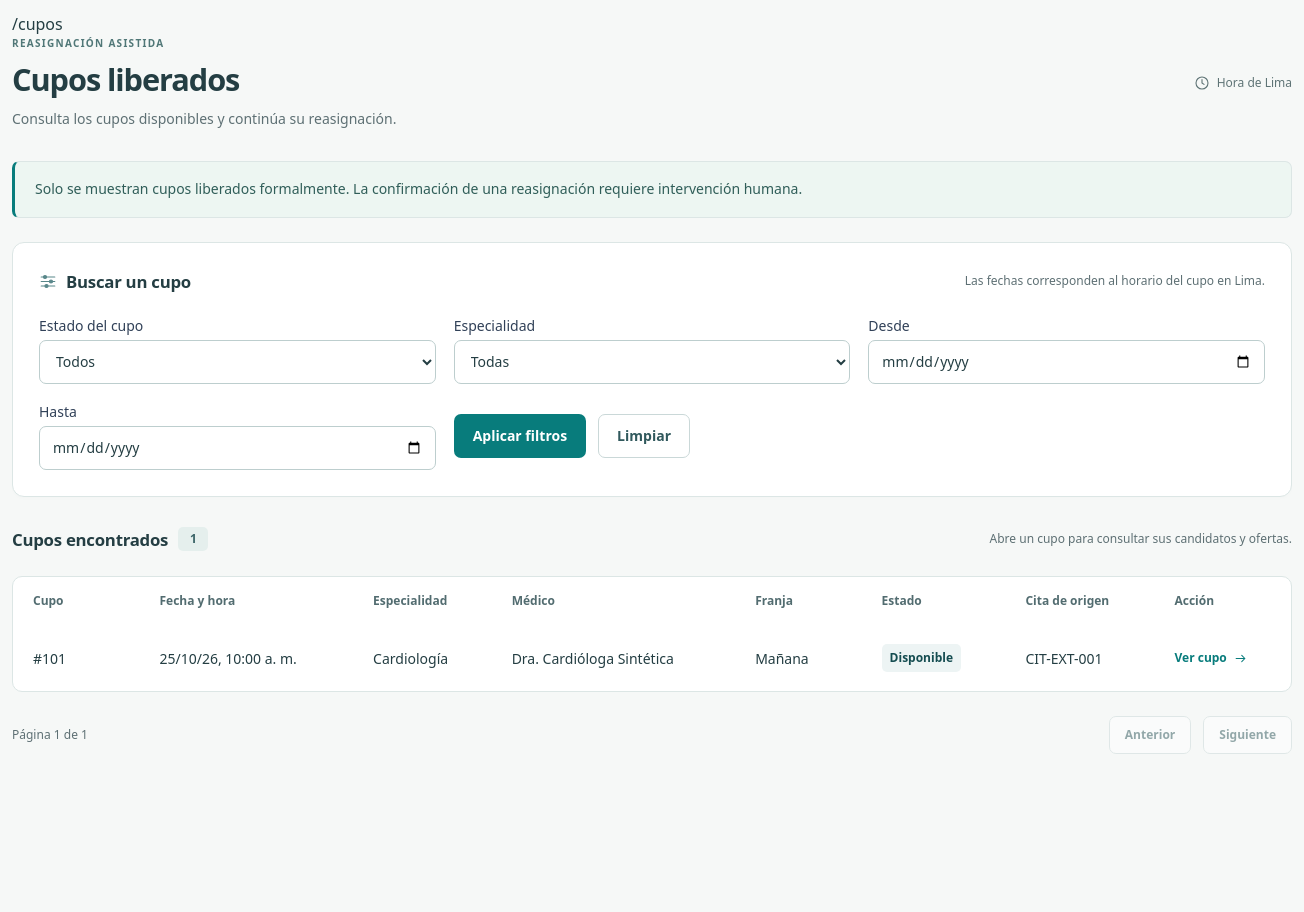
Test: Filtros y paginación de cupos (RF-073) › aplica filtros de estado, especialidad y rango de fechas a la URL y a la consulta
Expected: the text "#101" is shown, [13, 625, 140, 691]
Select "Disponible" in the dropdown labelled "Estado del cupo" at (237,362), box [39, 340, 436, 384]
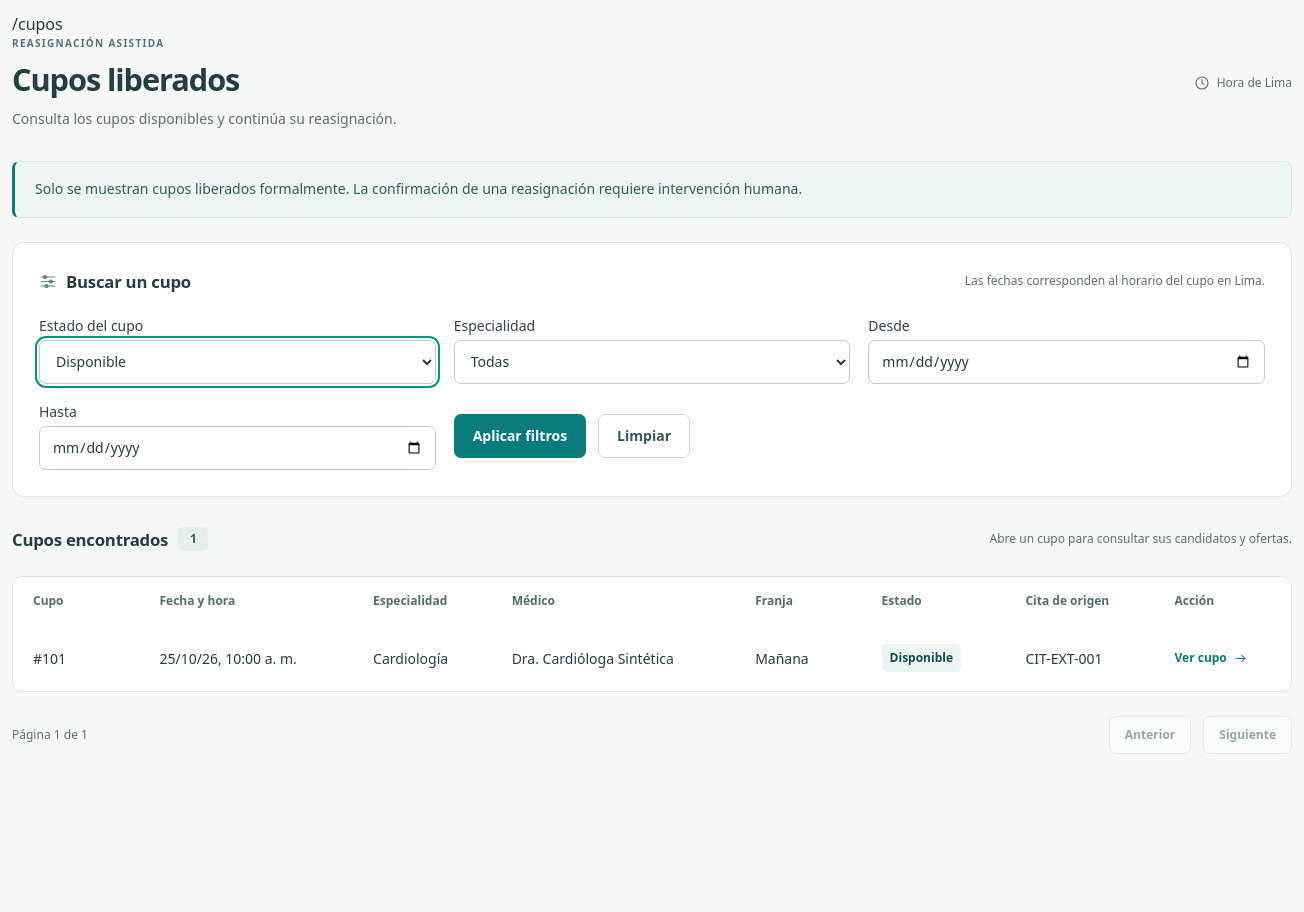
Select "Cardiología" in the dropdown labelled "Especialidad" at (652,362), box [454, 340, 850, 384]
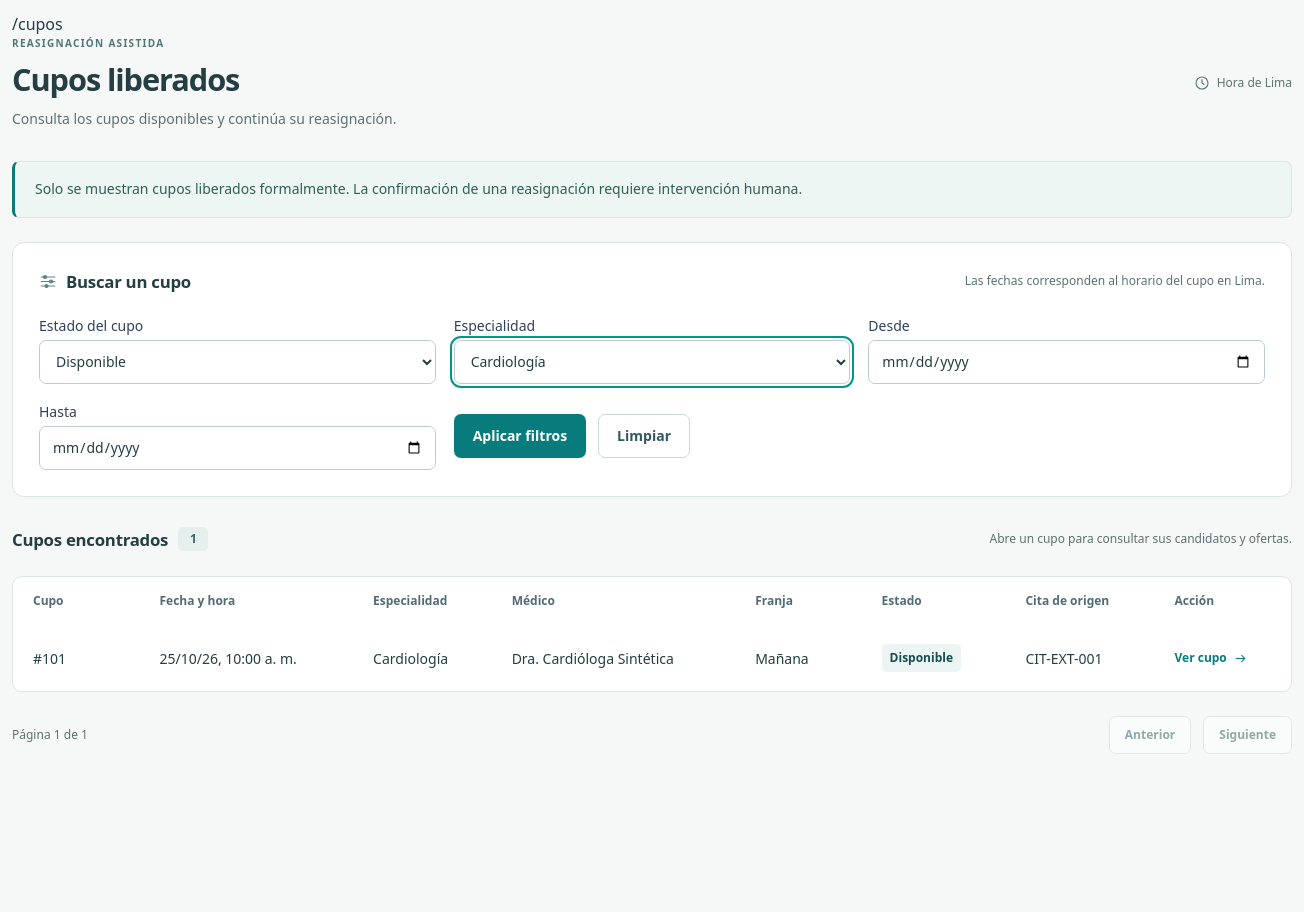
Type "2026-10-20" into the date field labelled "Desde" at (1067,362), box [868, 340, 1265, 384]
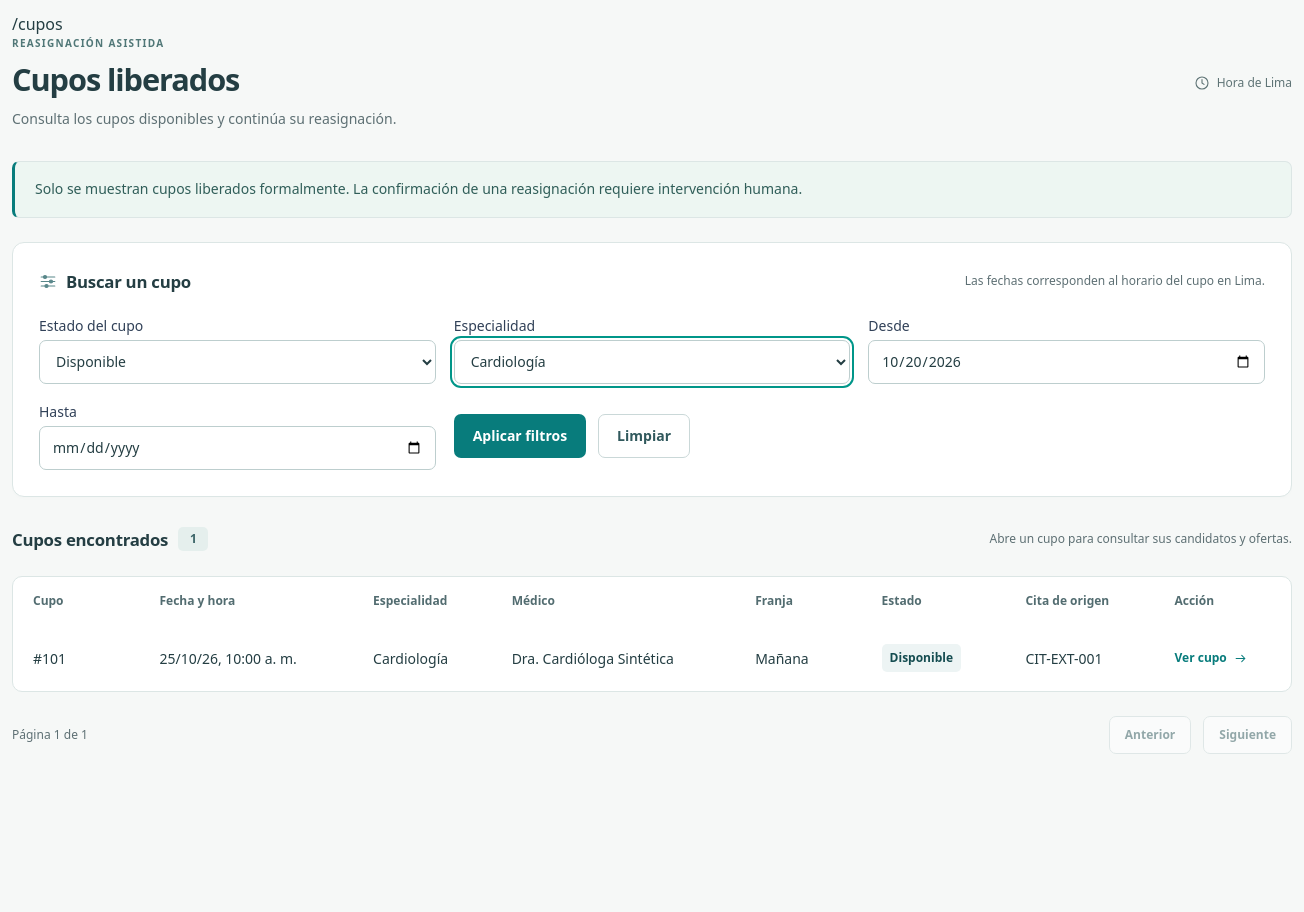
Type "2026-10-28" into the date field labelled "Hasta" at (237,448), box [39, 426, 436, 470]
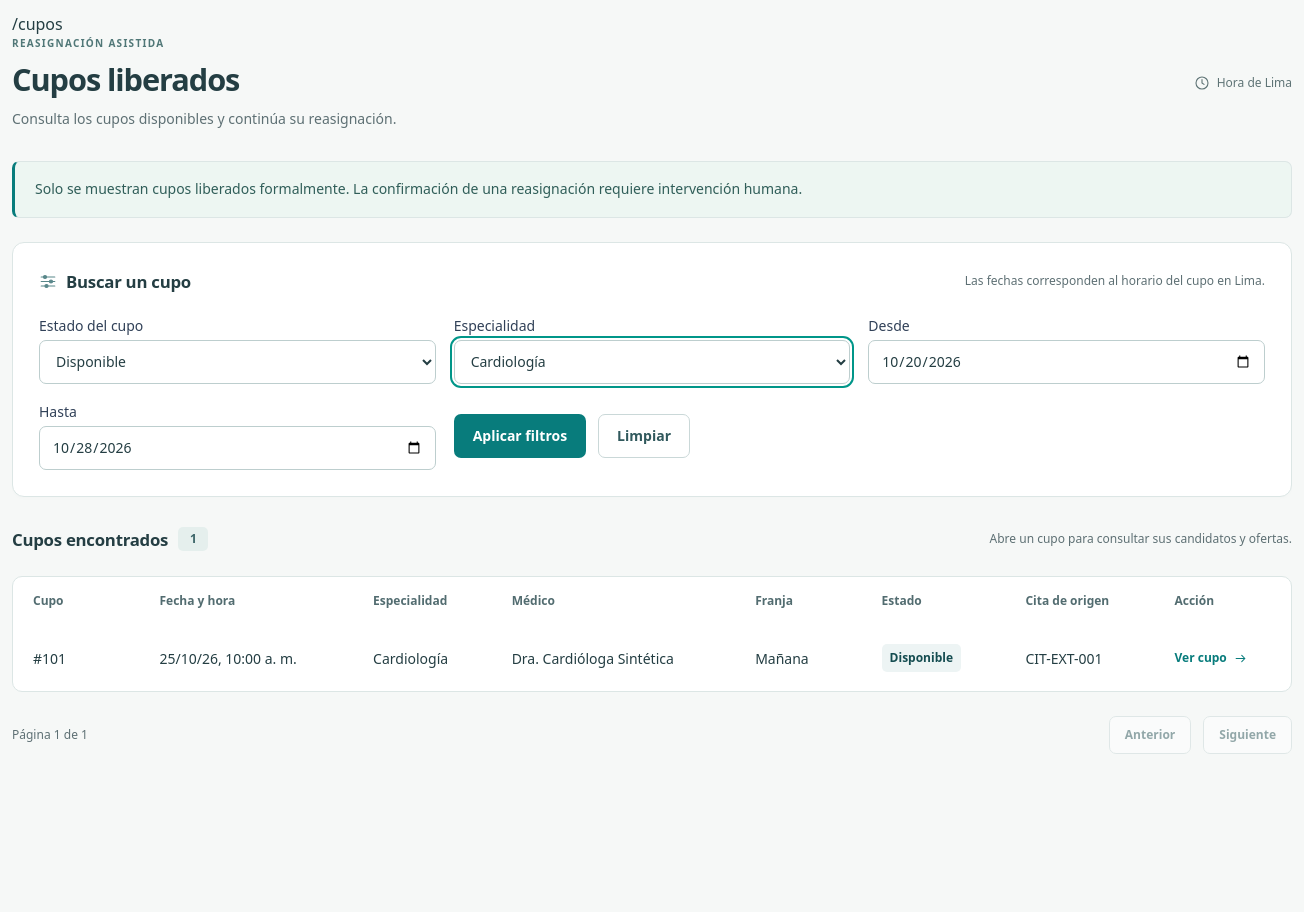
Click the button "Aplicar filtros" at (520,436), box [454, 414, 586, 458]
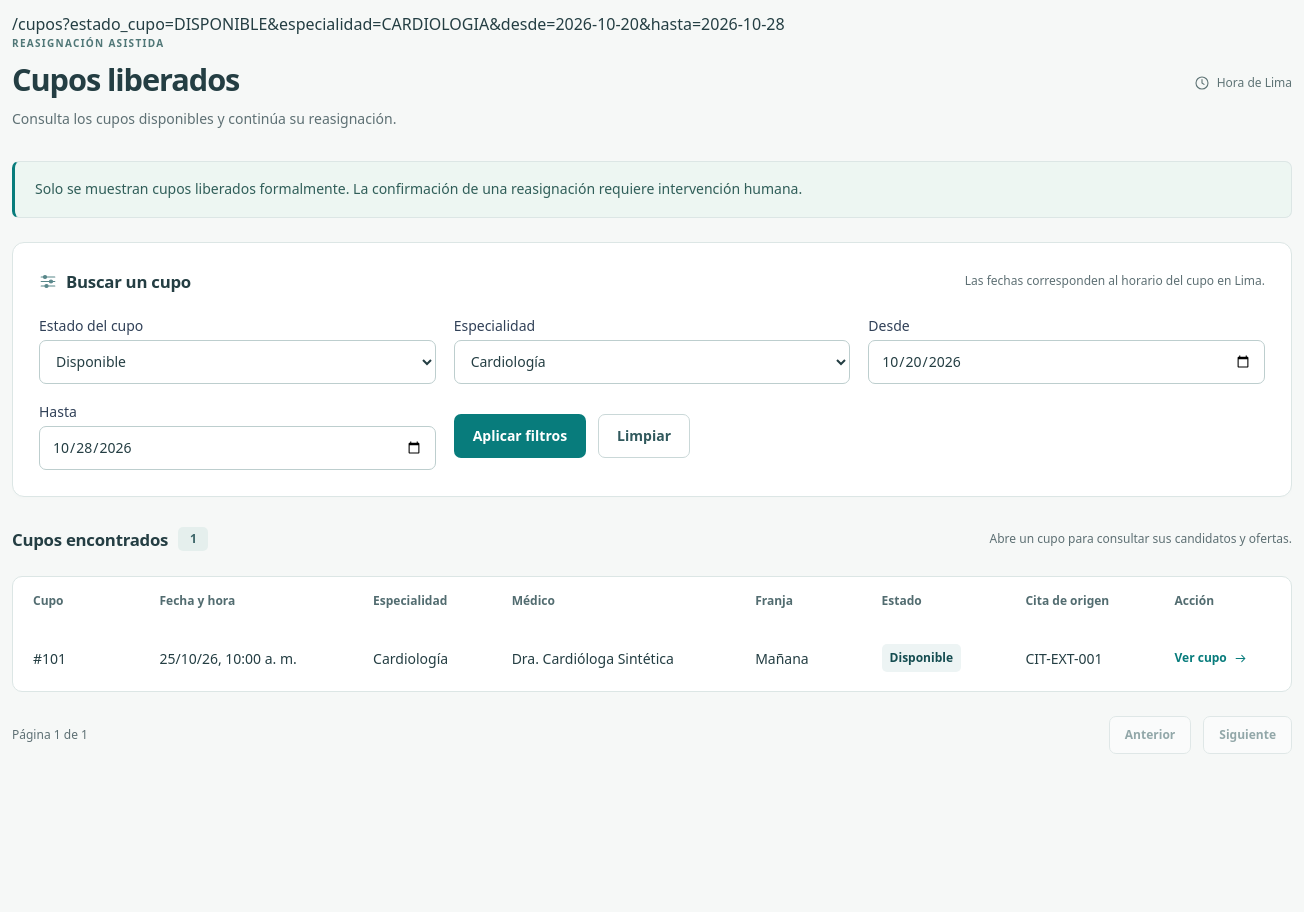
Now the text named "URL actual" shows "estado_cupo=DISPONIBLE", box [63, 13, 785, 35]
